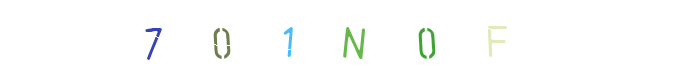0: (224, 0, 304, 80), (310, 0, 390, 80)
1: (289, 0, 369, 80)
7: (113, 0, 193, 80)
F: (375, 0, 455, 80)
N: (300, 0, 380, 80)
